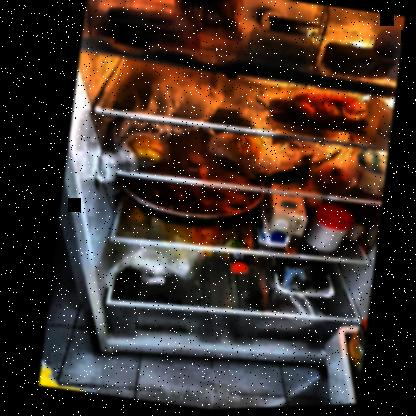broccoli: (272, 260, 332, 303)
butter: (322, 42, 395, 82)
carrot: (265, 88, 371, 140)
cheese: (241, 28, 318, 78)
green_chillies: (242, 156, 307, 191)
lemon: (224, 131, 267, 164), (123, 134, 167, 165)
milk: (252, 195, 307, 253)
salami: (103, 0, 183, 40)
tomato: (309, 165, 351, 193)
yoghurt: (347, 147, 389, 200), (266, 15, 319, 41)
